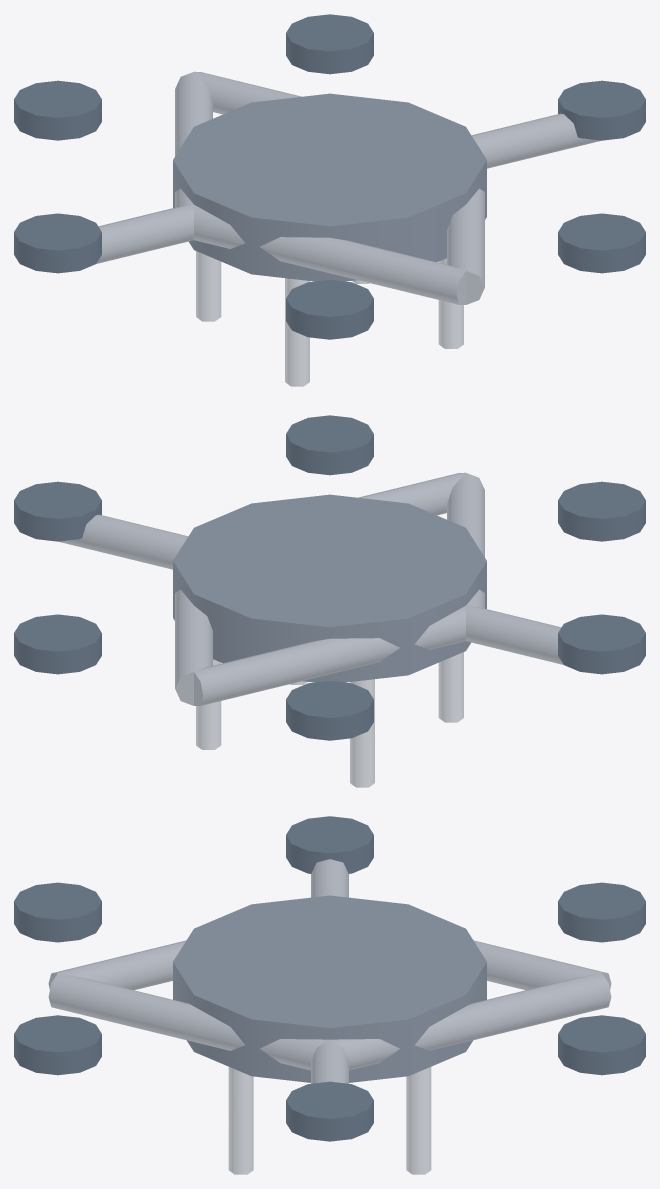
File: hexacopter.glb
3 renders of one model, top to bottom at view 1: azimuth 30°, elevation 25°; view 2: azimuth 150°, elevation 25°; view 3: azimuth 270°, elevation 25°, orthographic.
Bounding box in the file's own units: 1.14 × 0.3 × 1.01.
